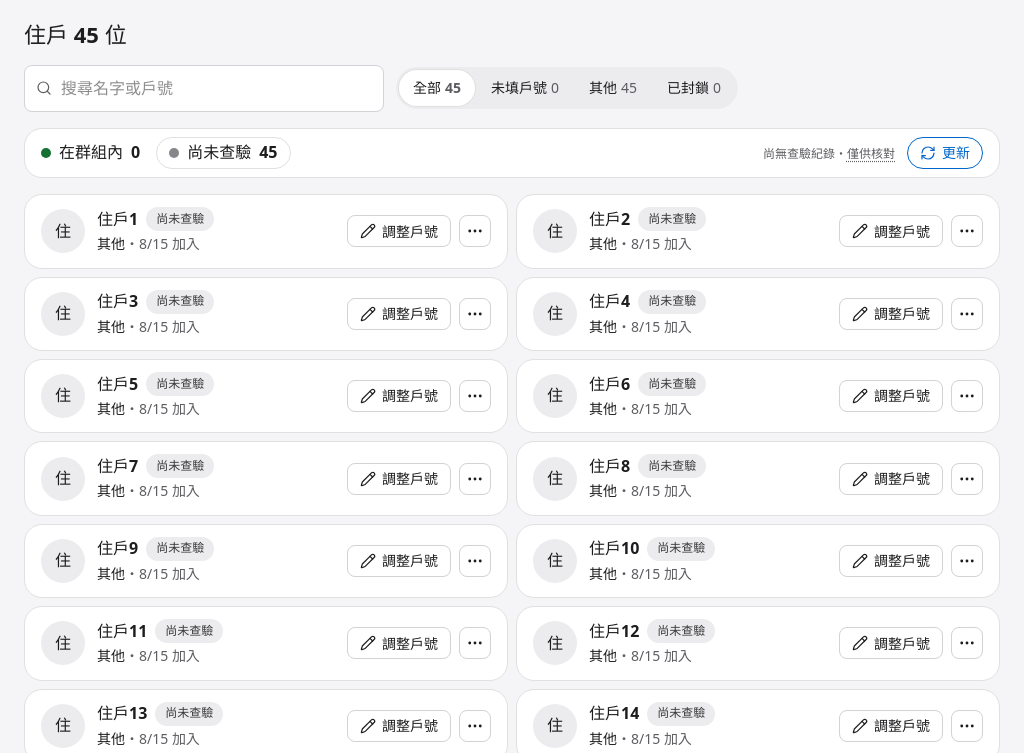
Test: ResidentMemberManagementApp › checks residents in batches of 20 and keeps old results for a batch that fails
Click the button with aria-label "更新全部群組狀態" at (945, 153), box [907, 137, 983, 169]
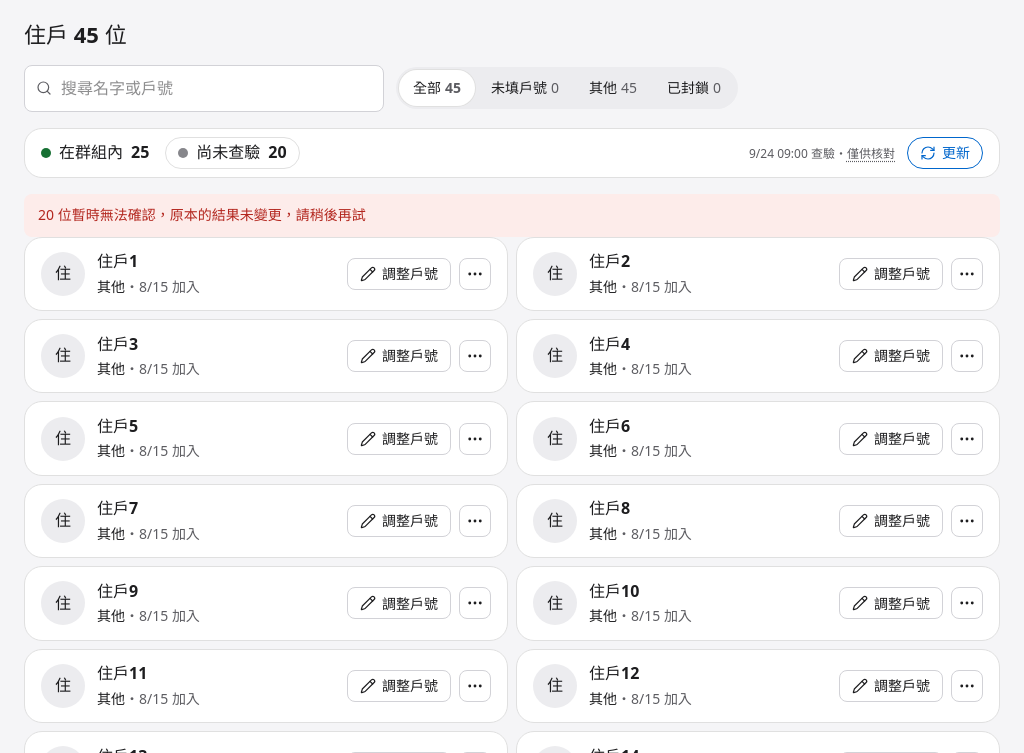
Check: the text "20 位暫時無法確認，原本的結果未變更，請稍後再試" is shown, box [38, 204, 366, 227]
Check: the list items read "在群組內 25", "尚未查驗 20", in this order, box [41, 140, 149, 166]; [165, 137, 300, 169]
Check: the text titled "2026/09/24 09:00" is shown, box [749, 145, 835, 162]
